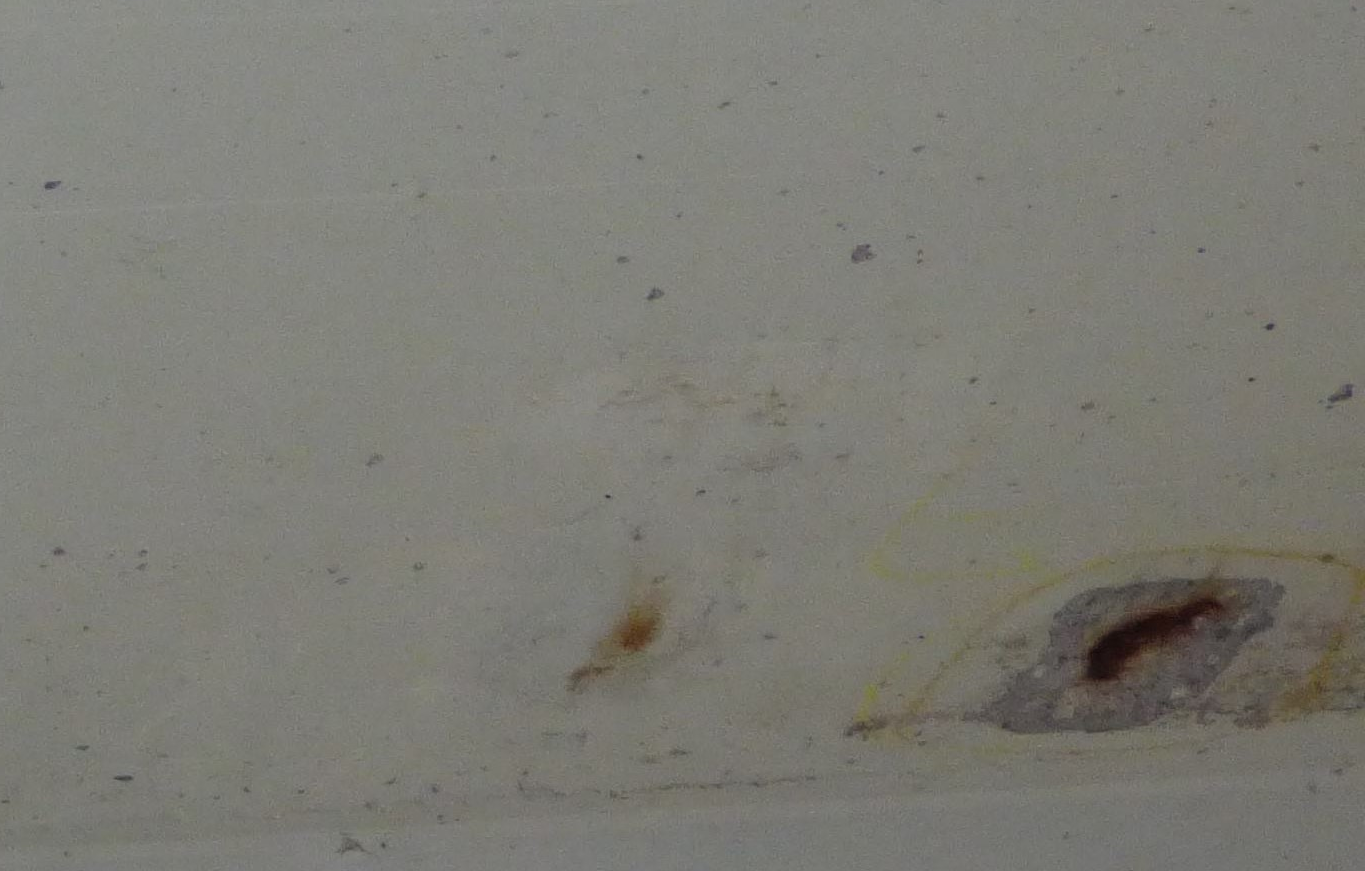Corrosion: (611, 592, 669, 654)
Exposed reinforcement: (1083, 598, 1220, 682)
Spalling: (961, 577, 1287, 735)
